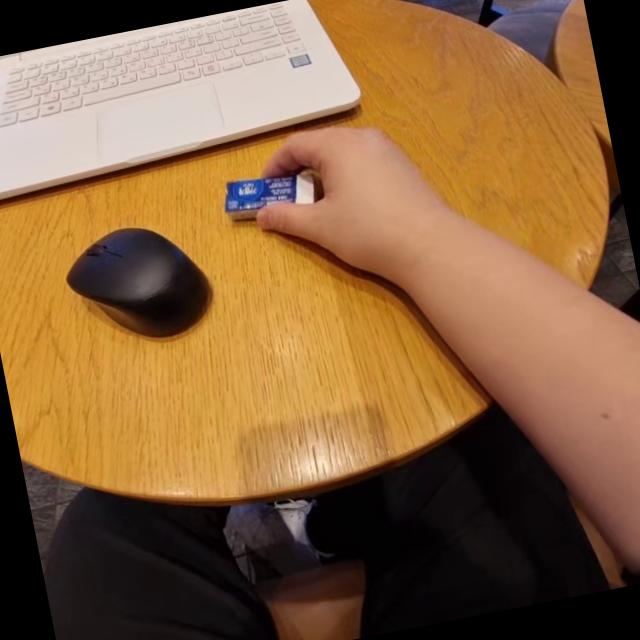eraser: (207, 164, 341, 218)
grab_eraser: (215, 105, 483, 323)
hand: (266, 84, 473, 284)
mouse: (49, 206, 226, 358)
